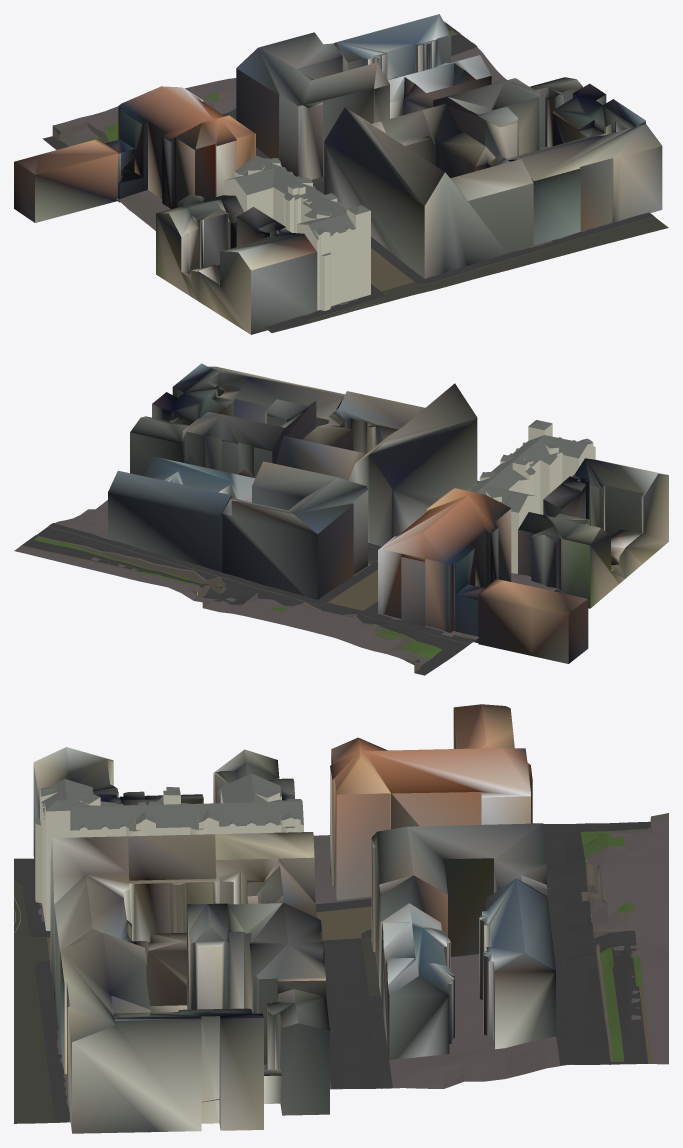
The picture shows the model from 3 angles, top to bottom: view 1: azimuth 30°, elevation 25°; view 2: azimuth 150°, elevation 25°; view 3: azimuth 270°, elevation 25°; orthographic projection. The views are drawn at different scales.
Visible parts, largest first — view 1: c_p00_m05; view 2: c_p00_m05; view 3: c_p00_m05.
Boxes of the visible parts, left/top/right/bottom form: c_p00_m05: left=14, top=14, right=668, bottom=334; c_p00_m05: left=14, top=363, right=668, bottom=675; c_p00_m05: left=14, top=704, right=668, bottom=1133.
Size of the model in its own units: 159 by 34.83 by 128.
